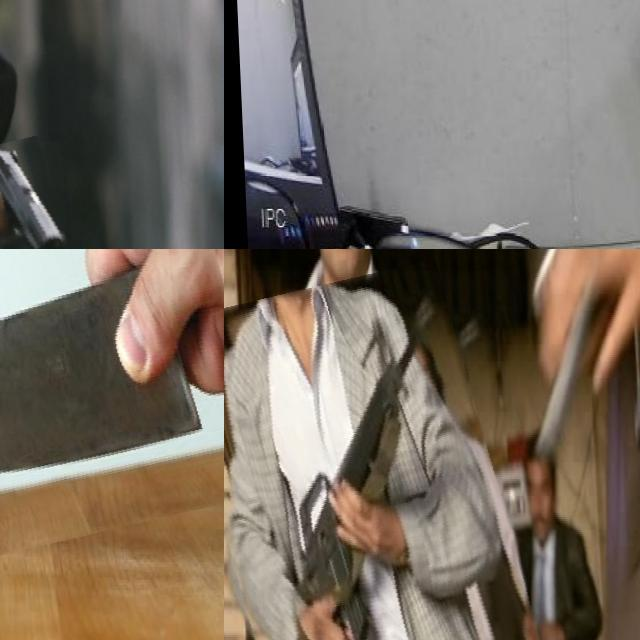-: (0, 249, 224, 575), (453, 0, 640, 114)
gun-knife-thesis - v11 Yolov5 augmented: (224, 271, 531, 640), (0, 140, 72, 249)
